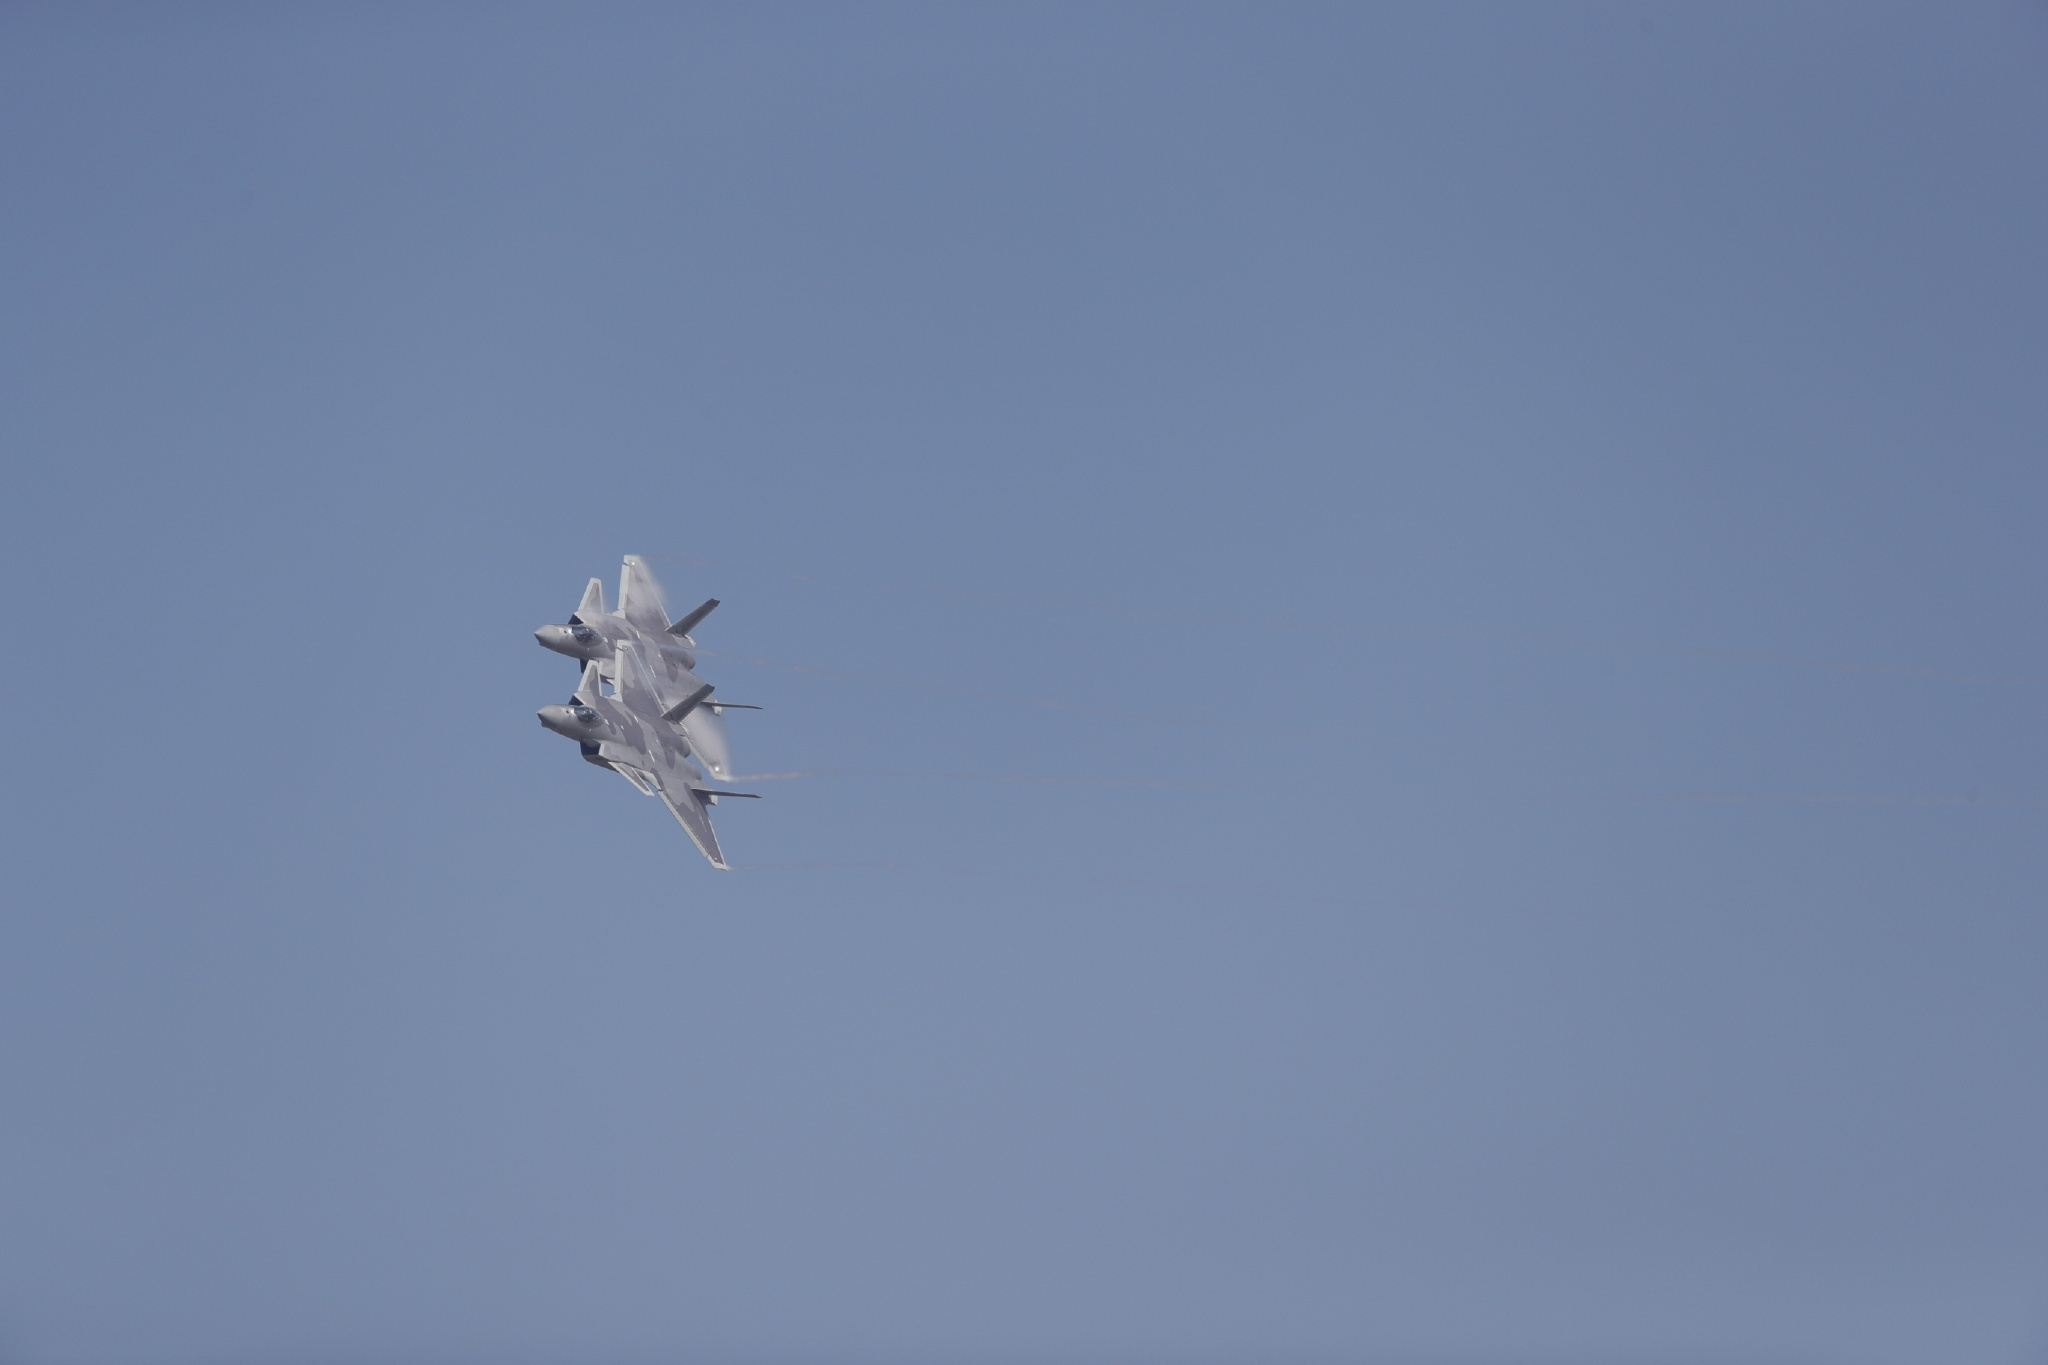J20: (534, 638, 763, 871), (533, 555, 764, 782)
